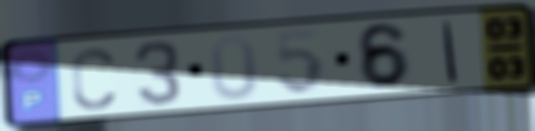0: (207, 33, 261, 103)
3: (132, 37, 186, 110)
5: (274, 29, 329, 97)
6: (353, 21, 415, 93)
C: (68, 46, 118, 113)
I: (440, 19, 461, 84)
